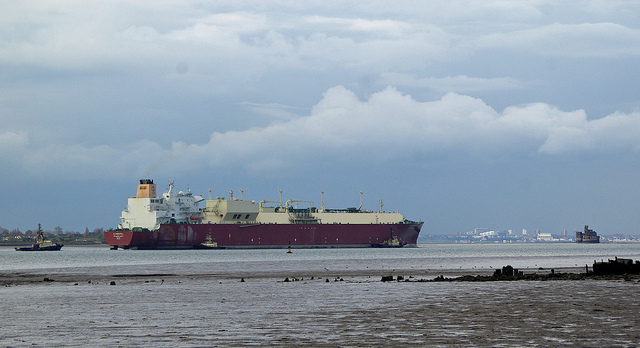LNG_ship: (105, 175, 432, 247)
tug_boat: (13, 216, 65, 251), (191, 224, 229, 254), (377, 223, 412, 250)
